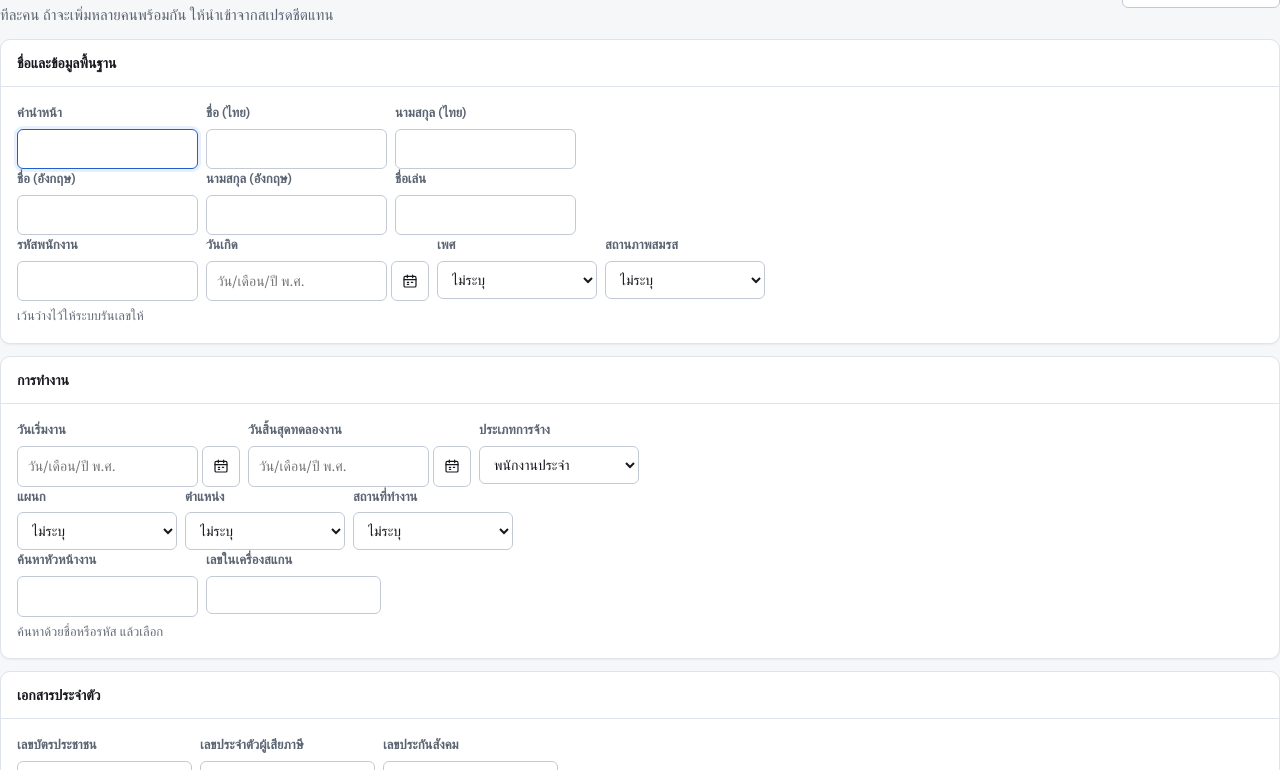
Test: Adding one employee from the console (CW-065) › marks what is wrong and sends nothing
Type "วิภา" into the field labelled "ชื่อ (ไทย)".
click(296, 149); type("วิภา")  # box [206, 129, 387, 169]
(page scrolled)
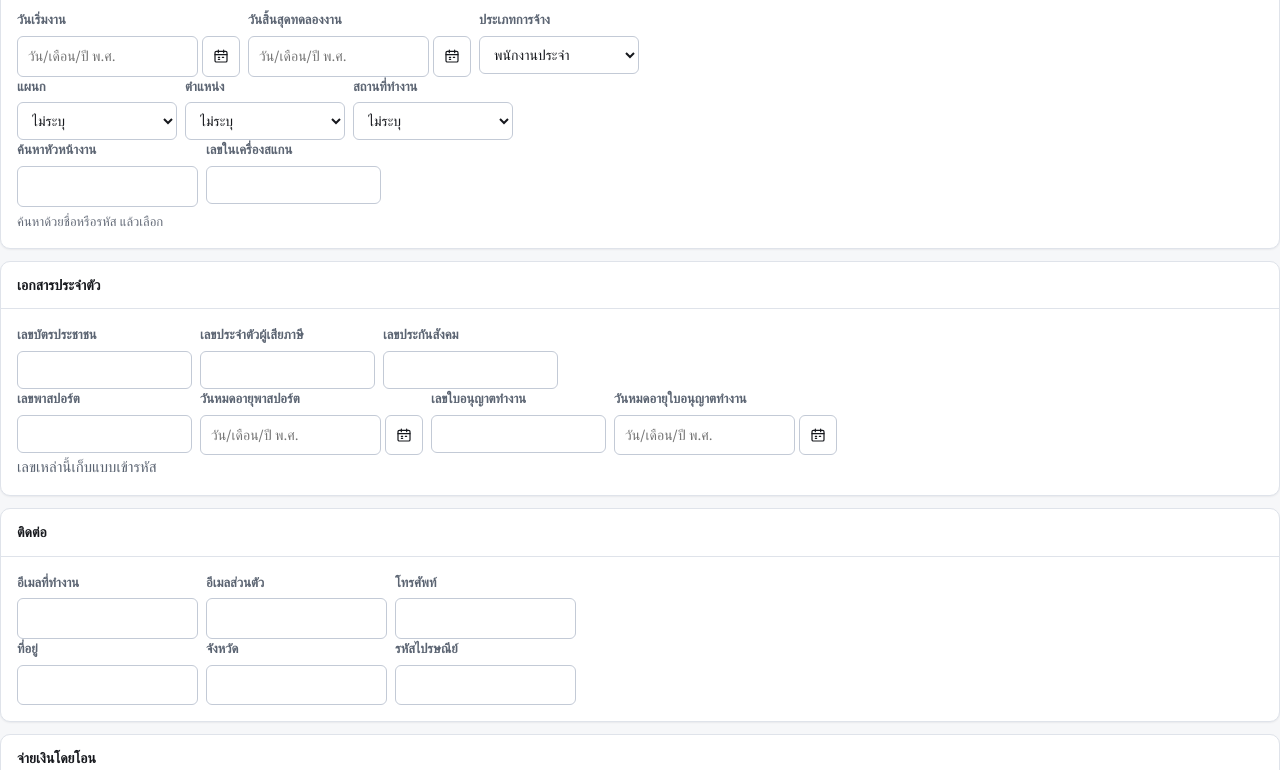
Type "12345" into the field labelled "เลขบัตรประชาชน".
click(104, 370); type("12345")  # box [17, 351, 192, 389]
(page scrolled)
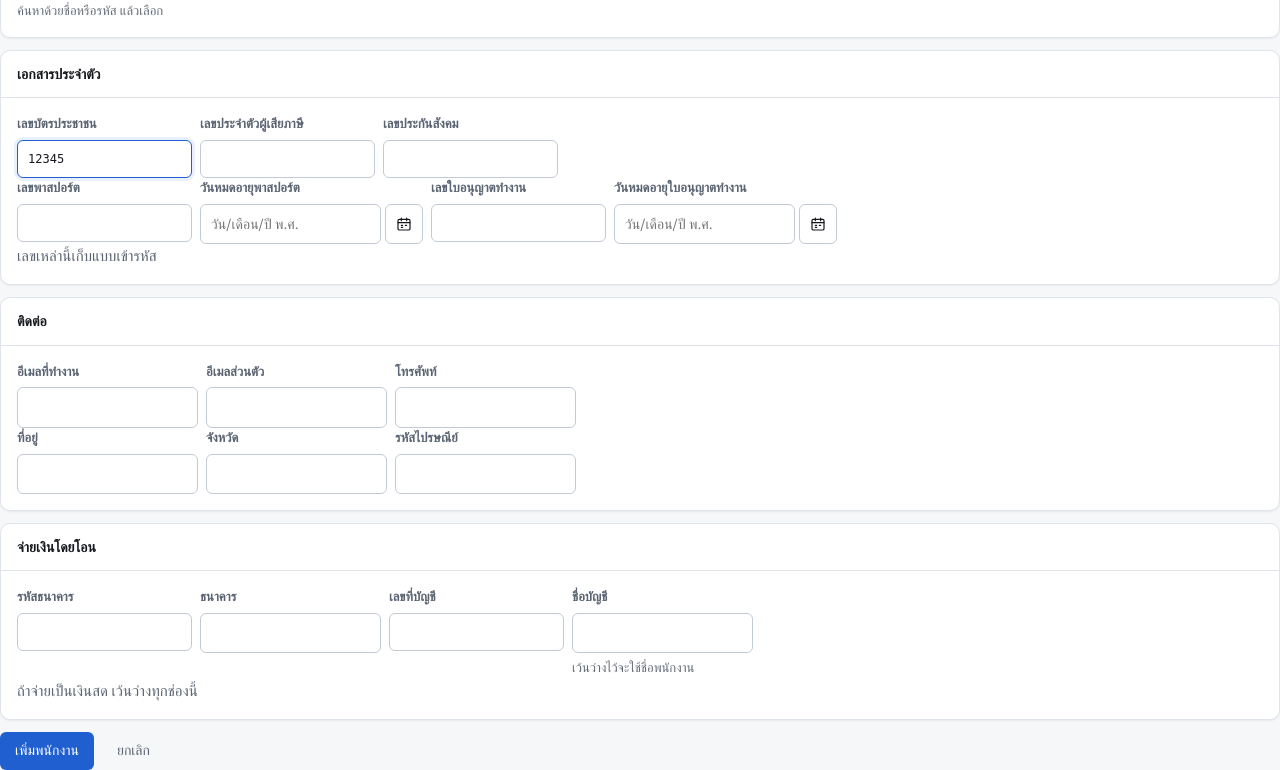
Click the button "เพิ่มพนักงาน".
click(47, 751)  # box [0, 732, 94, 769]
(page scrolled)
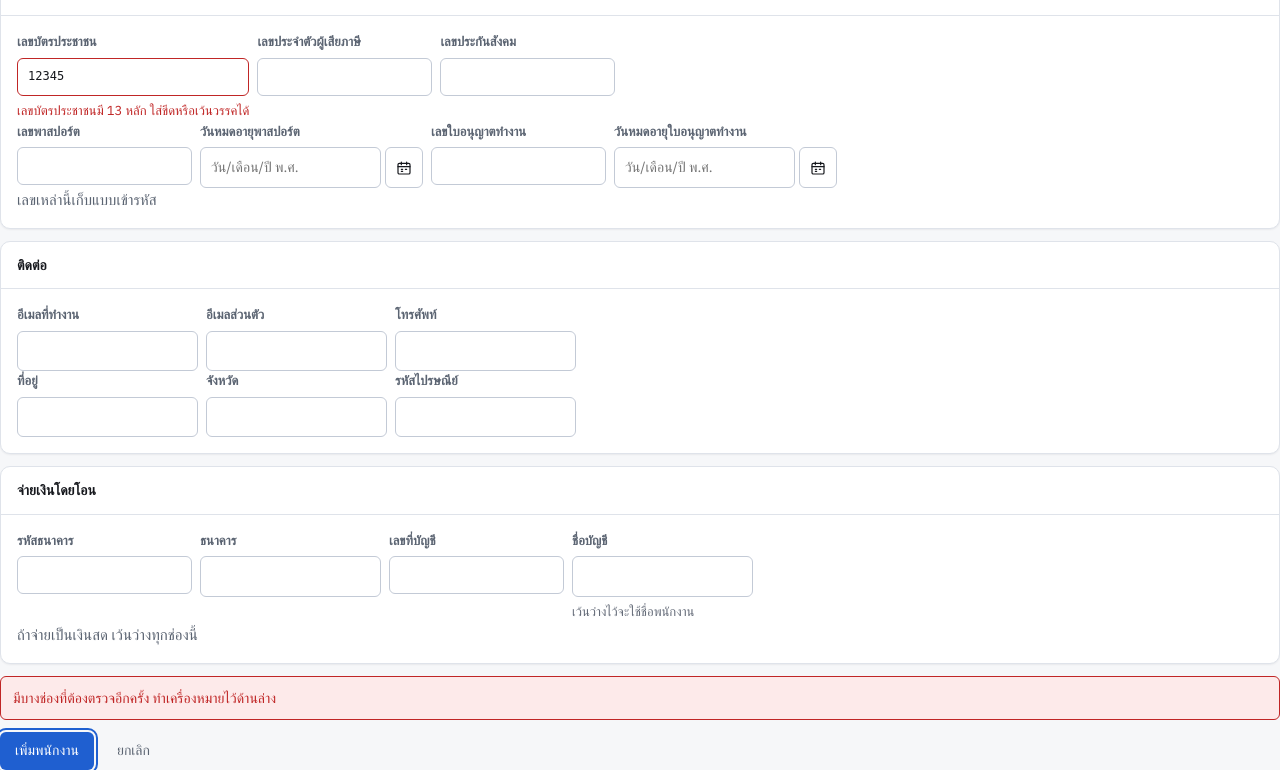
Now the text "เลขบัตรประชาชนมี 13 หลัก ใส่ขีดหรือเว้นวรรคได้" is shown, box [17, 101, 249, 122]
Now the message shows "มีบางช่องที่ต้องตรวจอีกครั้ง", box [13, 689, 276, 707]
